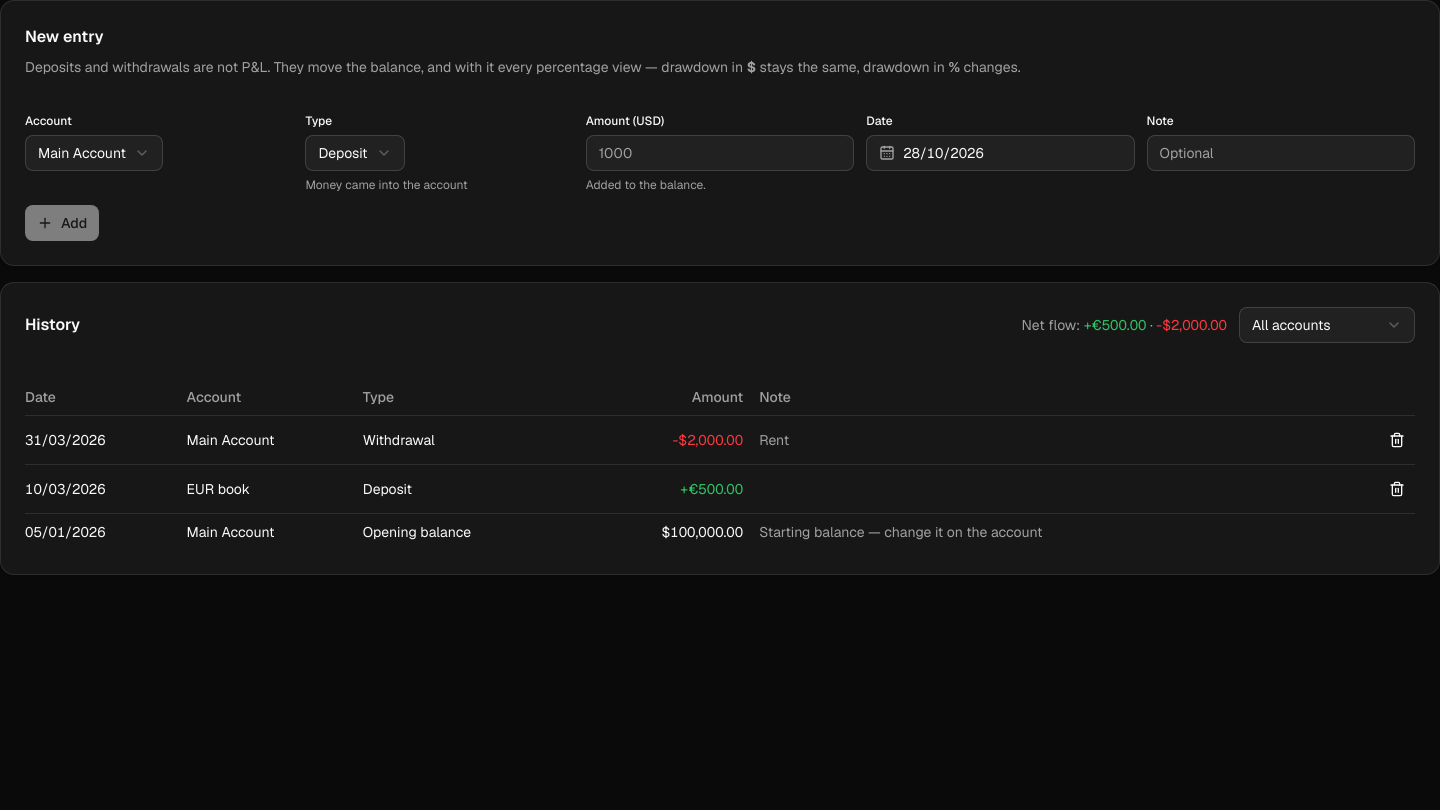
it: the history › filters by account
Click the dropdown named "Filter by account".
click(1327, 325)  # box [1239,307,1415,343]
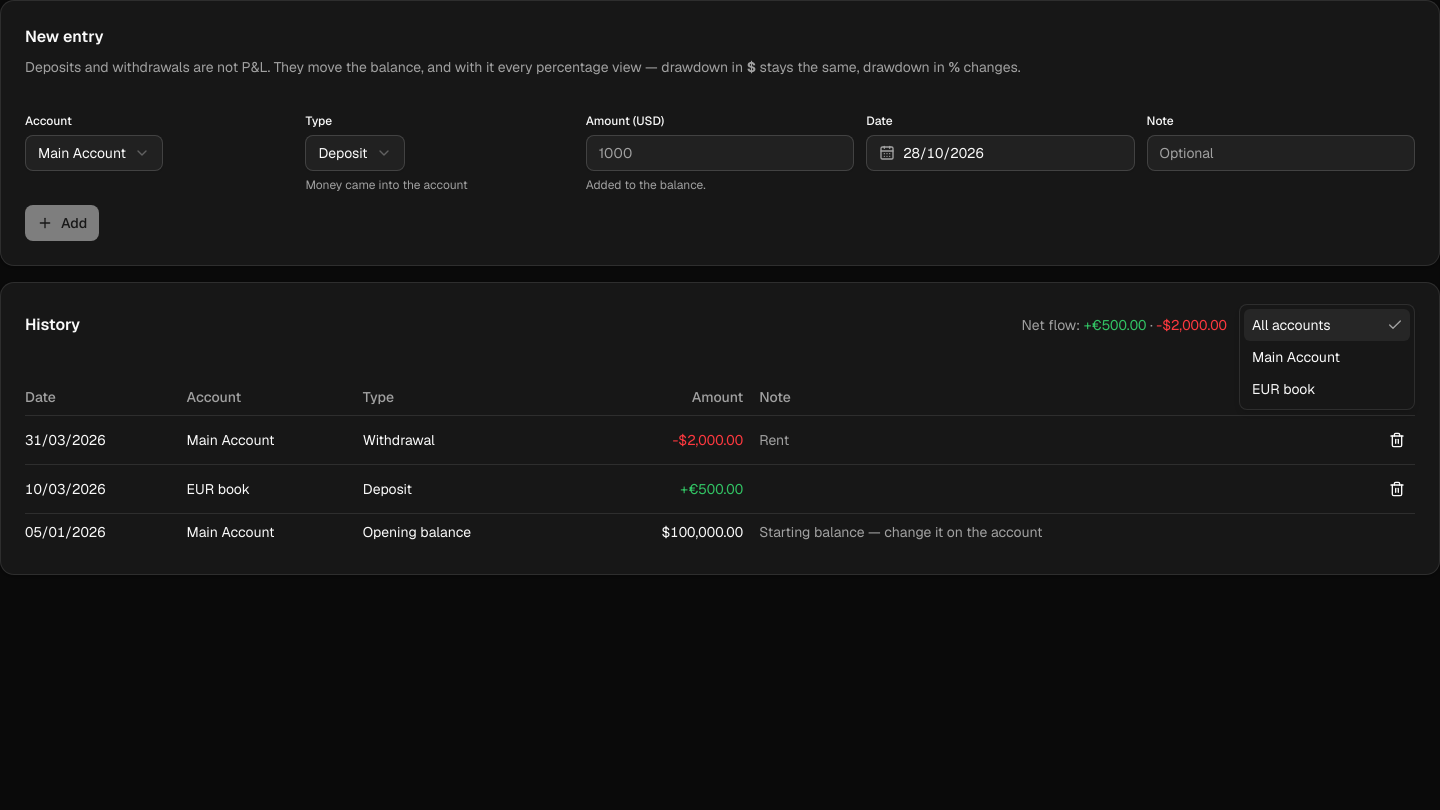
Click the option "EUR book".
click(1284, 389)  # box [1252,380,1315,398]
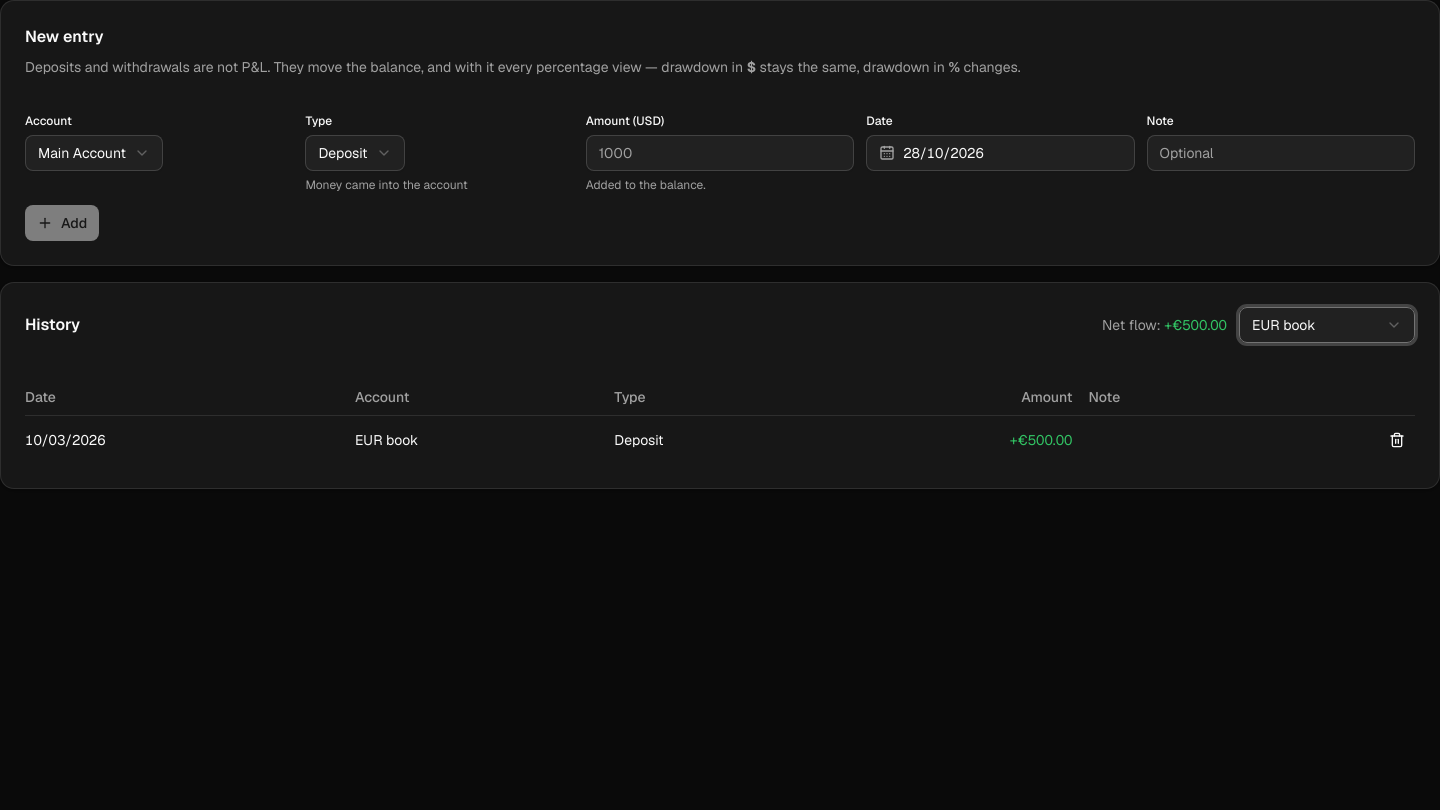
expect the text "Deposit" is shown: met, box [614,416,816,464]
expect the text "Rent" is gone: met
expect the text "Opening balance" is gone: met
